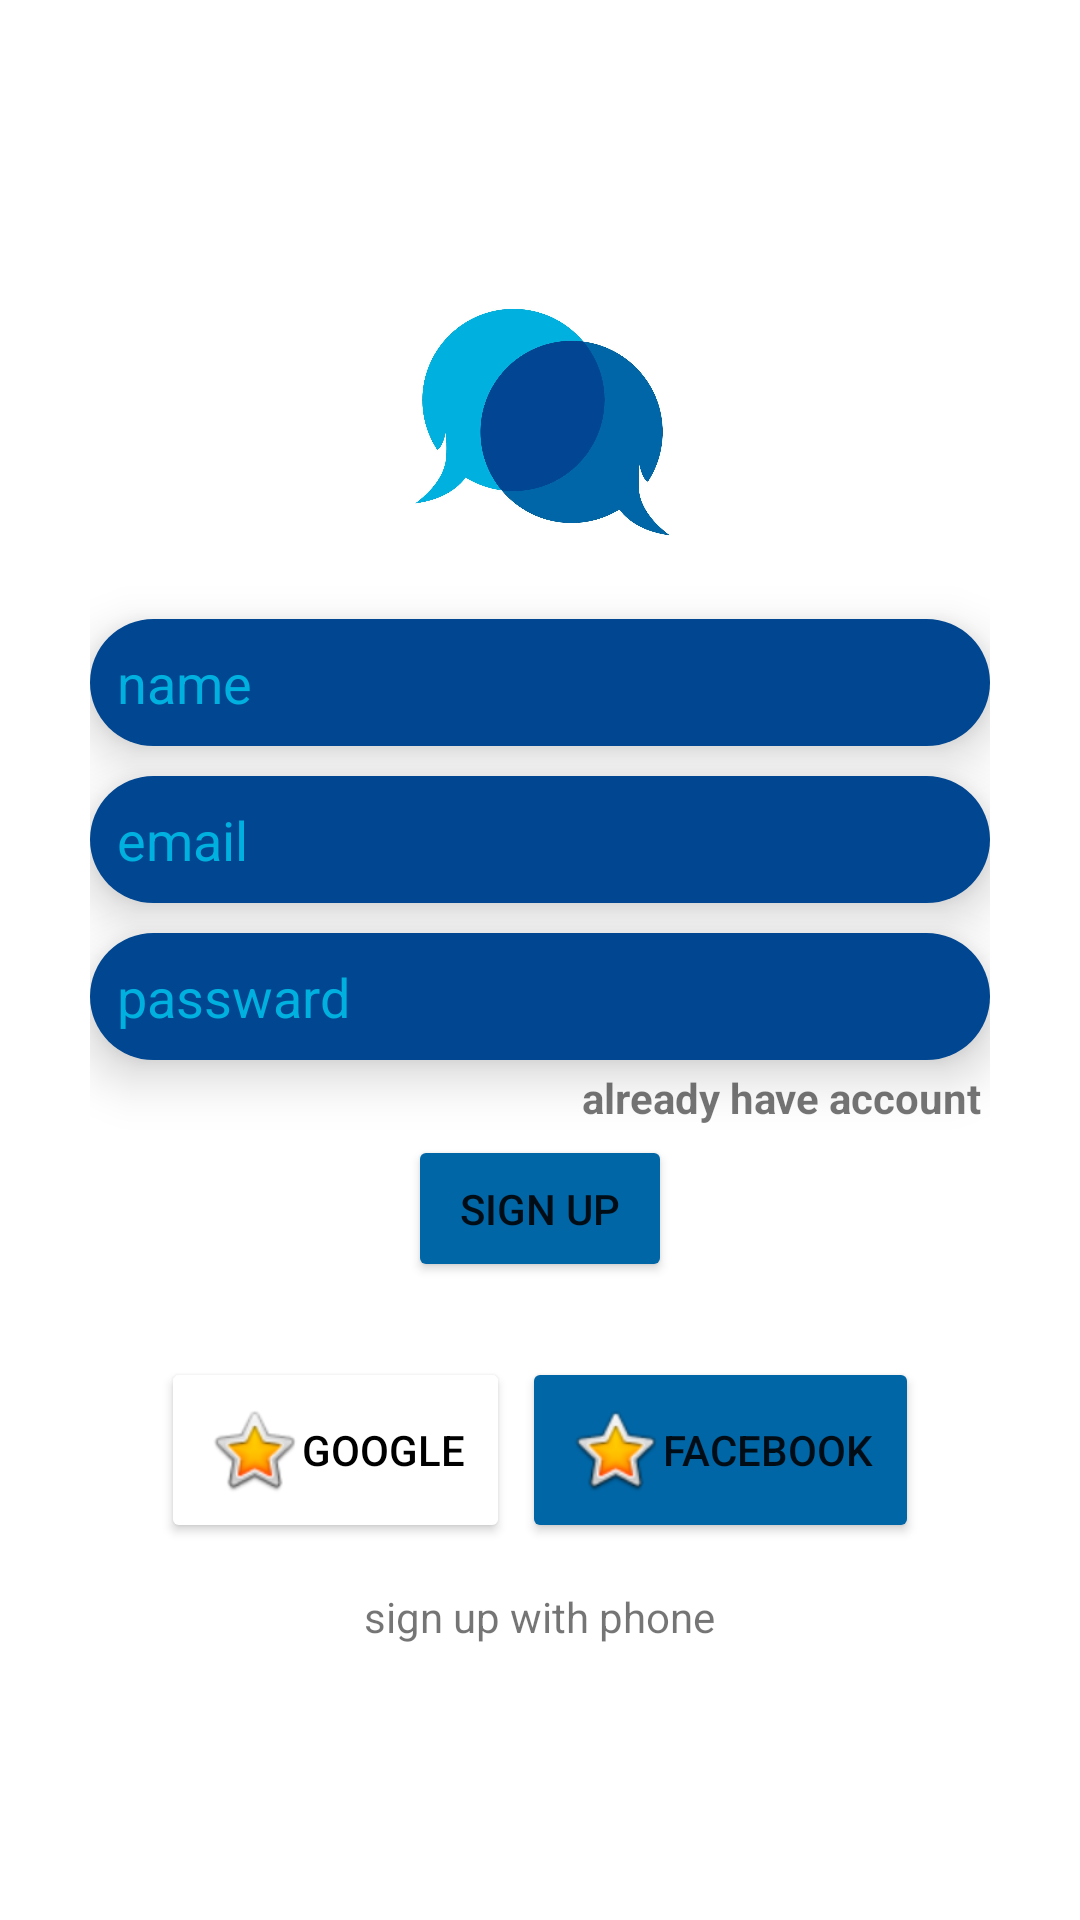

Named icons in this screenshot (1080x1920) and their centers, (x=x, y=y):
chat: (x=542, y=422)
